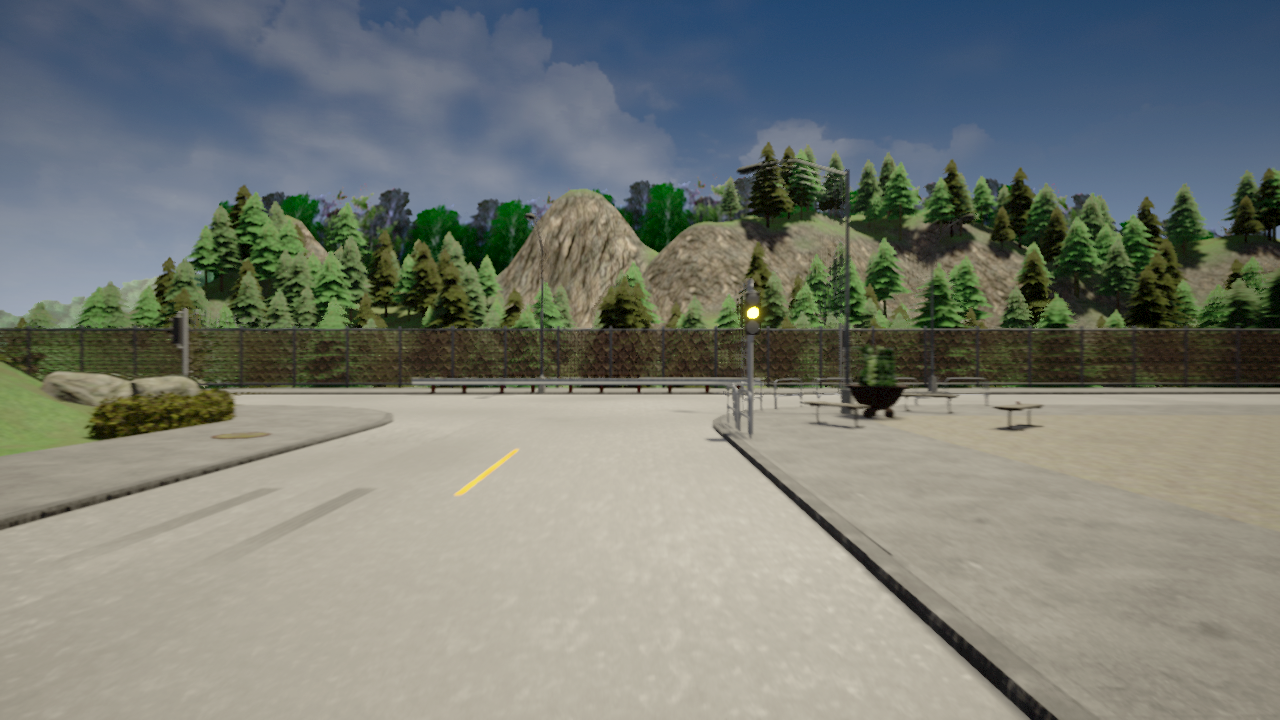yellow: (743, 289, 762, 335)
